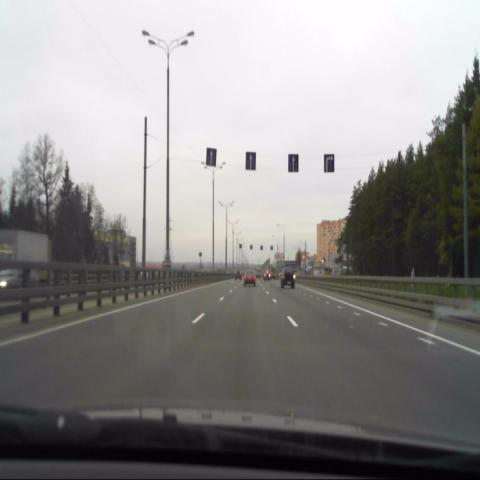5_15_2: (245, 150, 256, 170), (206, 147, 216, 167), (324, 154, 334, 173), (288, 154, 298, 171)
